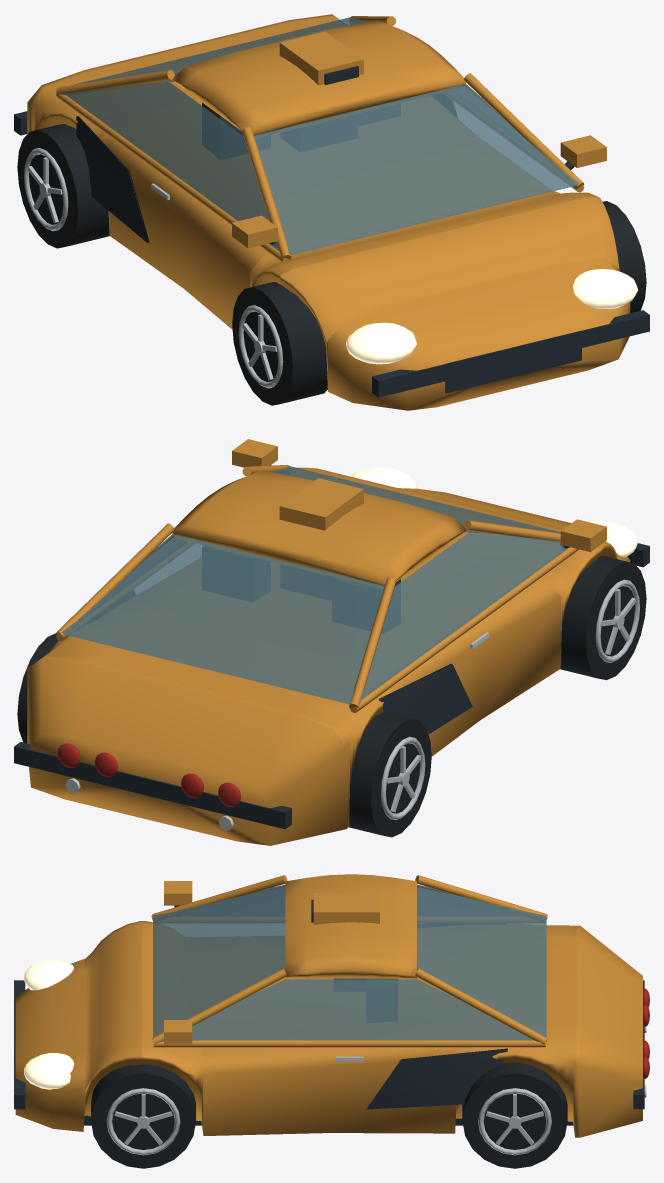
File: woking.glb
3 views of the same model, one above another, from view 1: azimuth 30°, elevation 25°; view 2: azimuth 150°, elevation 25°; view 3: azimuth 270°, elevation 25° (orthographic). The views are drawn at different scales.
Parts seen in each view (by area): view 1: exterior-paint, windows, black-trim, tire-front-left, tire-rear-left, headlights, tire-front-right, rim-front-left, rim-rear-left; view 2: exterior-paint, windows, black-trim, tire-front-left, tire-rear-left, taillights, rim-front-left, rim-rear-left, headlights, tire-rear-right, interior; view 3: exterior-paint, windows, tire-front-right, tire-rear-right, black-trim, headlights, rim-front-right, rim-rear-right, taillights.
Boxes of the visible parts, x1,y1,x2,y2 form: exterior-paint: (27,14,630,410); windows: (64,17,578,255); black-trim: (14,66,649,397); tire-front-left: (232,282,327,405); tire-rear-left: (17,124,109,248); headlights: (346,269,637,364); tire-front-right: (602,201,646,313); rim-front-left: (238,305,283,388); rim-rear-left: (24,148,68,231); exterior-paint: (27,439,630,845); windows: (62,466,569,704); black-trim: (14,465,649,829); tire-front-left: (560,556,646,680); tire-rear-left: (349,712,431,837); taillights: (57,743,241,807); rim-front-left: (595,579,639,662); rim-rear-left: (380,736,425,820); headlights: (351,466,637,557); tire-rear-right: (17,633,58,743); interior: (202,558,400,626); exterior-paint: (15,874,642,1137); windows: (153,884,546,1040); tire-front-right: (91,1064,195,1168); tire-rear-right: (462,1062,567,1168); black-trim: (14,899,644,1125); headlights: (24,960,74,1089); rim-front-right: (106,1088,180,1155); rim-rear-right: (478,1088,551,1155); taillights: (643,988,649,1078).
Bounding box in the file's own units: 2.07 × 1.21 × 3.63.
